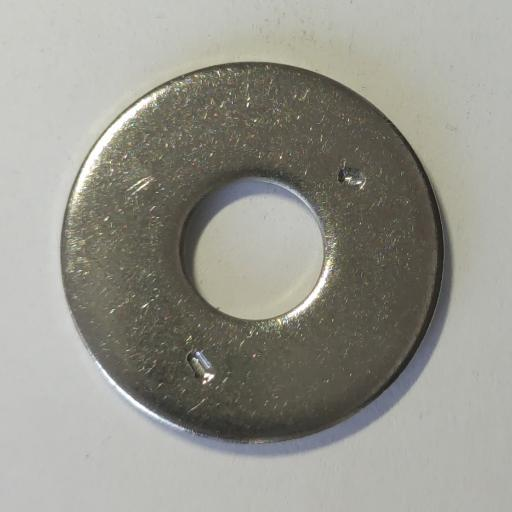circular_cavity: (187, 351, 216, 385), (338, 167, 366, 191)
